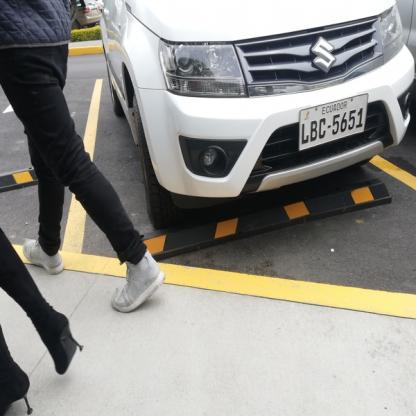Placa: (298, 92, 371, 147)
